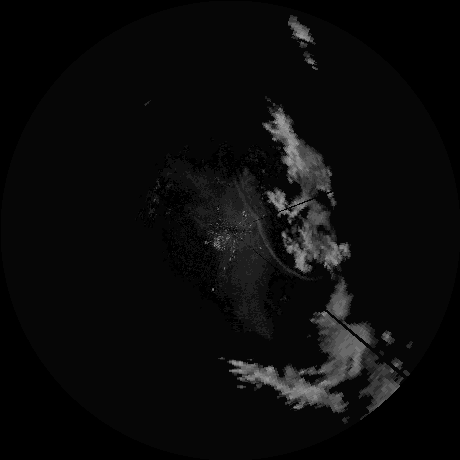frontgust: (237, 182, 269, 252), (272, 255, 292, 273)
